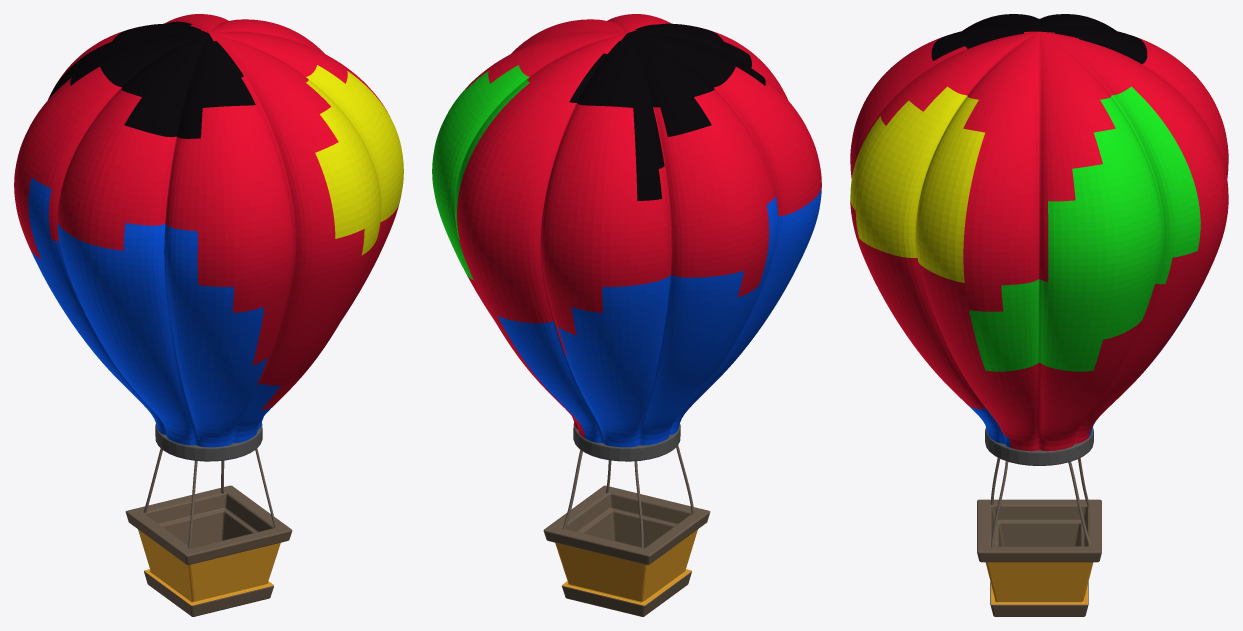
File: hotairballoon.fbx
The picture shows the model from 3 angles, left to right: view 1: azimuth 30°, elevation 25°; view 2: azimuth 150°, elevation 25°; view 3: azimuth 270°, elevation 25°; orthographic projection.
Visible parts, largest first — view 1: Balloon, Basket, Bevel; view 2: Balloon, Basket, Bevel; view 3: Balloon, Basket, Bevel.
Boxes of the visible parts, bbox=[...] form: Balloon: bbox=[14, 14, 403, 447]; Basket: bbox=[125, 485, 292, 616]; Bevel: bbox=[155, 423, 262, 461]; Balloon: bbox=[432, 14, 821, 447]; Basket: bbox=[543, 485, 710, 616]; Bevel: bbox=[573, 423, 680, 461]; Balloon: bbox=[850, 14, 1228, 451]; Basket: bbox=[977, 499, 1101, 616]; Bevel: bbox=[985, 427, 1093, 465].
Size of the model in its own units: 1060 by 1751 by 1060.
